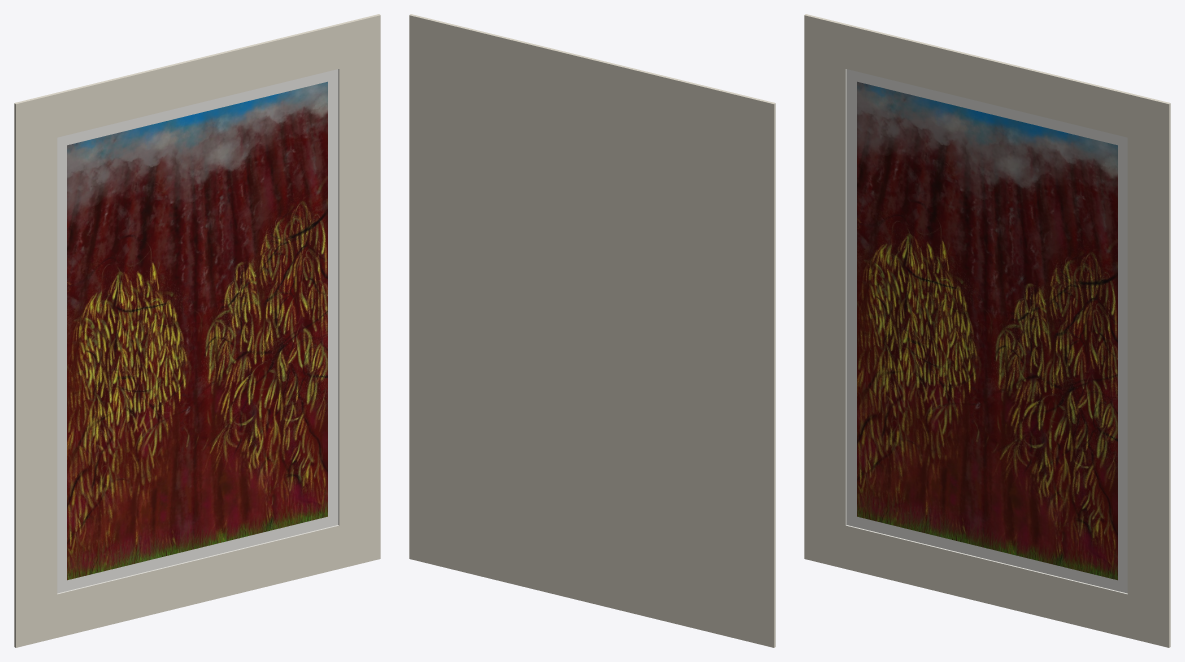
File: os025_moyen_passe-partout.glb
3 renders of one model, left to right at view 1: azimuth 30°, elevation 25°; view 2: azimuth 150°, elevation 25°; view 3: azimuth 330°, elevation 25°, orthographic.
Visible parts, largest first — view 1: os025_moyen_passe-partout; view 2: os025_moyen_passe-partout; view 3: os025_moyen_passe-partout.
Part boxes in pixels (x1=…): os025_moyen_passe-partout: x1=14, y1=14, x2=380, y2=647; os025_moyen_passe-partout: x1=409, y1=14, x2=775, y2=647; os025_moyen_passe-partout: x1=804, y1=14, x2=1170, y2=647.
Size of the model in its own units: 0.7024 by 1 by 0.0055.
4 materials, 1 textured.
